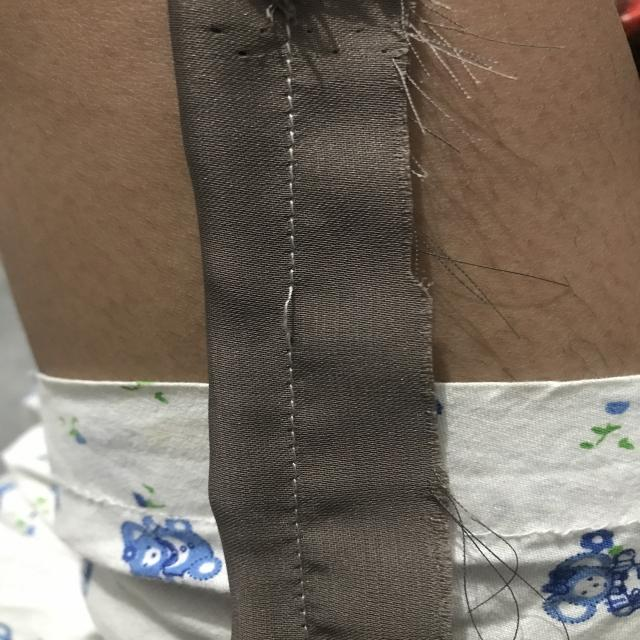good: (276, 398, 323, 544), (275, 135, 309, 236)
skip: (267, 268, 320, 365)
